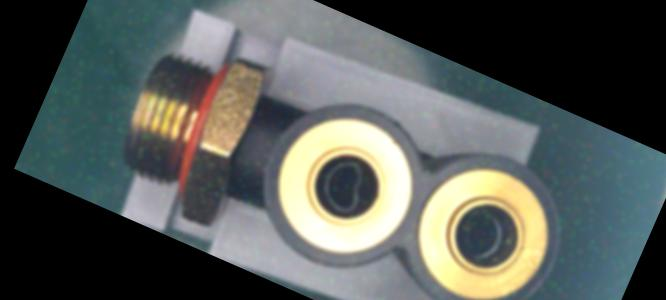off-centered: (447, 199, 517, 270), (312, 151, 375, 219)
